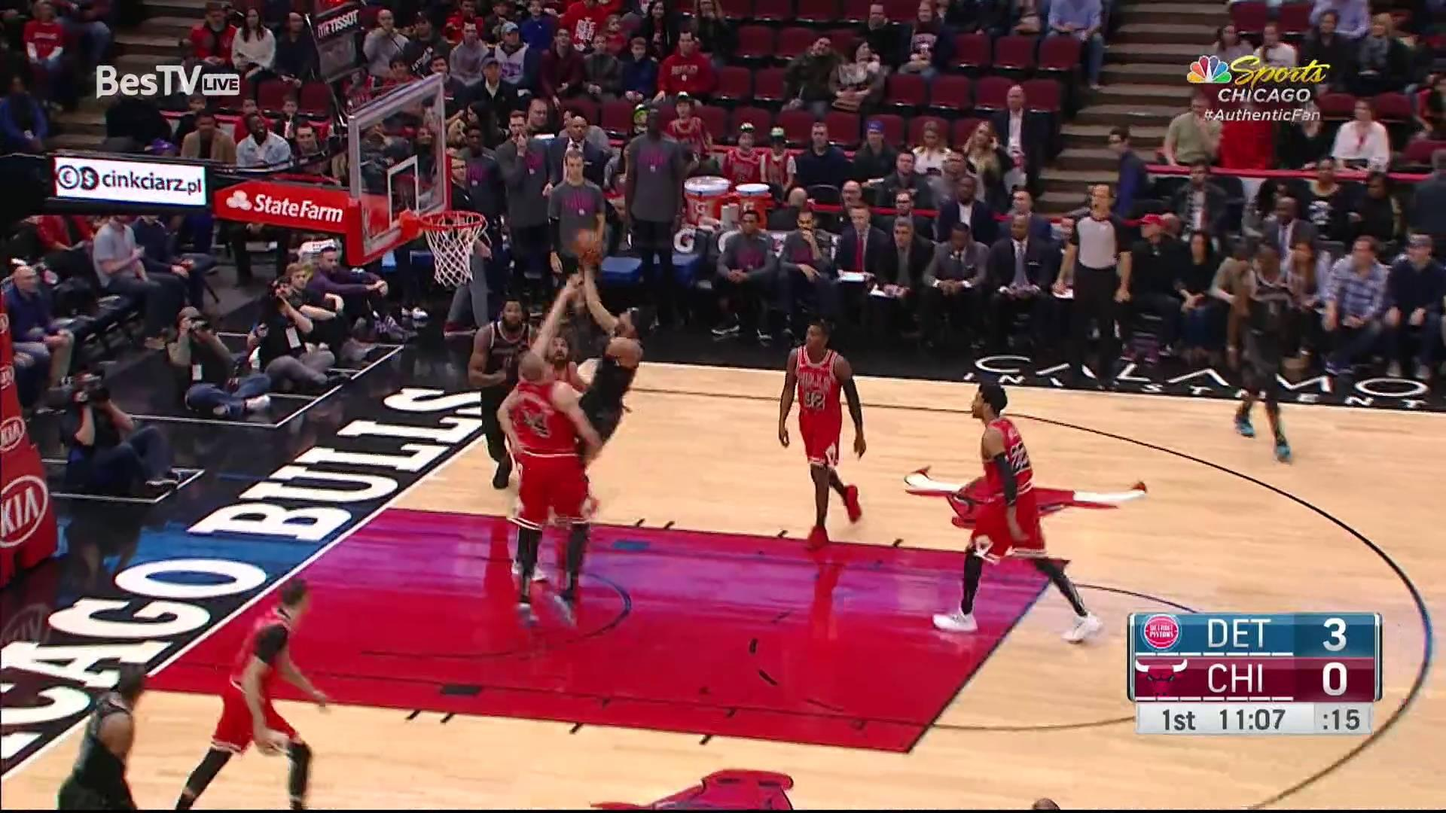basketball: (569, 229, 605, 265)
